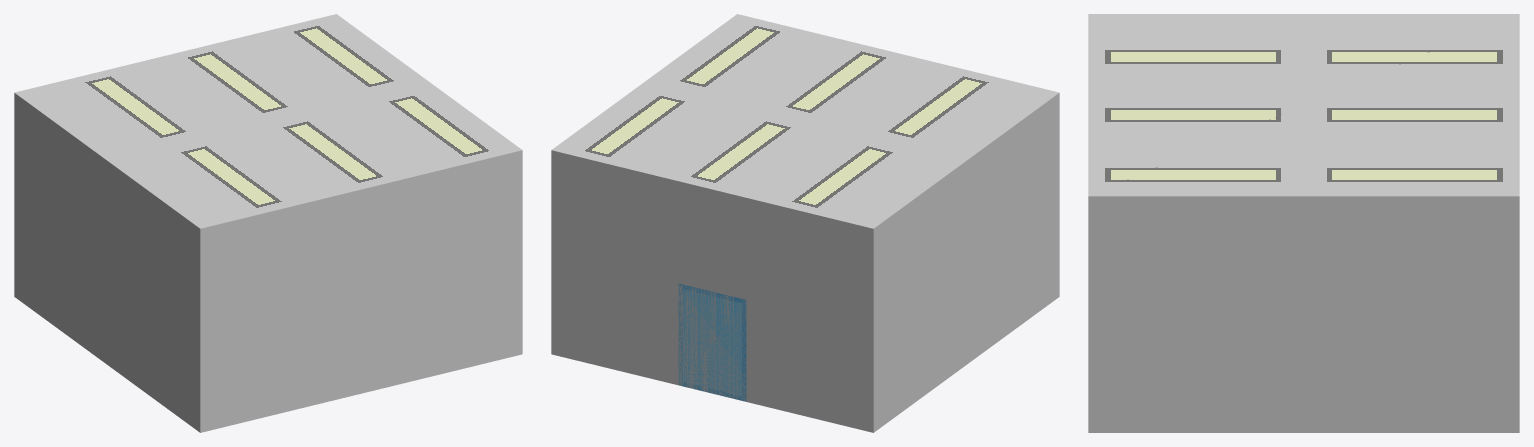
The model's file is store1inside.gltf.
The picture shows the model from 3 angles, left to right: view 1: azimuth 30°, elevation 25°; view 2: azimuth 150°, elevation 25°; view 3: azimuth 270°, elevation 25°; orthographic projection. The views are drawn at different scales.
Visible parts, largest first — view 1: plane (×3); view 2: plane (×3), cuboid; view 3: plane (×2).
Part boxes in pixels (x1,y1,x2,y2): plane (×3): [14, 14, 522, 432]; plane (×3): [551, 14, 1059, 432]; cuboid: [678, 283, 746, 401]; plane (×2): [1088, 14, 1519, 432].
Size of the model in its own units: 4.75 by 2.88 by 4.75.
7 materials, 7 textured.
